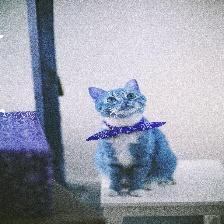kedo: (89, 79, 177, 196)
